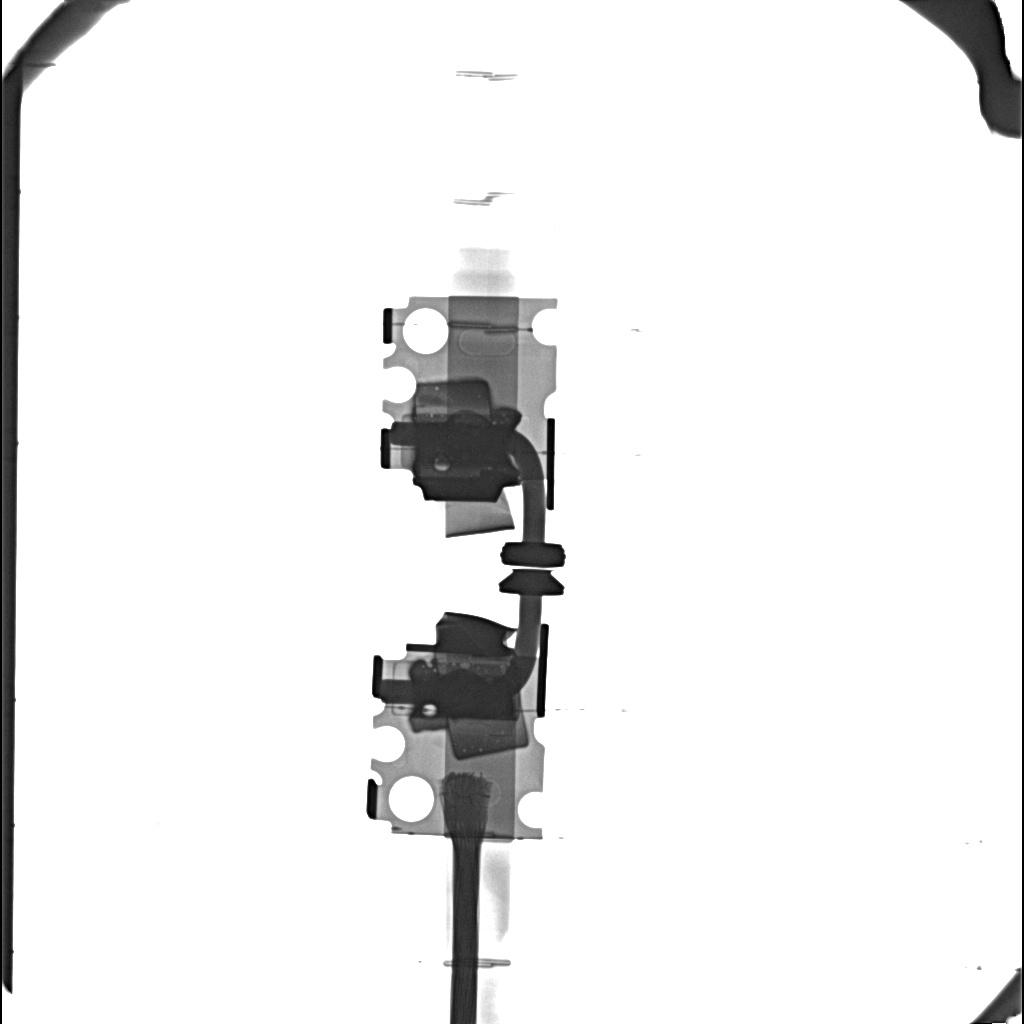defect: (445, 706, 530, 760), (413, 677, 513, 718), (416, 421, 507, 464), (414, 379, 492, 419), (434, 464, 451, 471)
